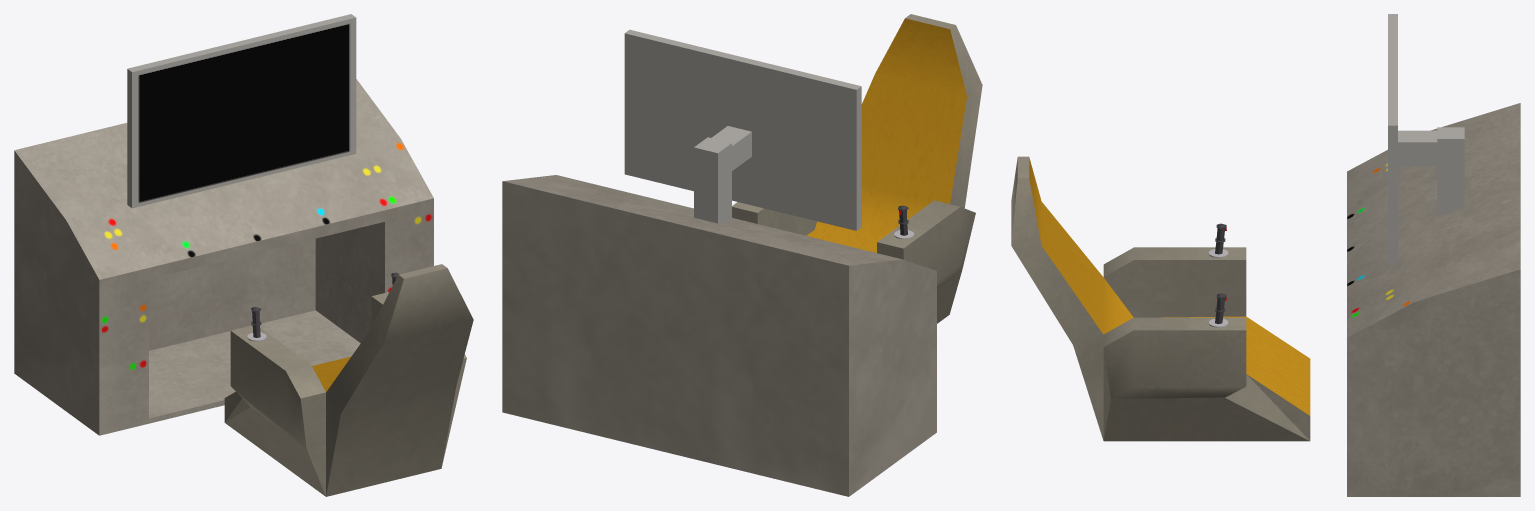
File: Control_Center.fbx
3 renders of one model, left to right at view 1: azimuth 30°, elevation 25°; view 2: azimuth 150°, elevation 25°; view 3: azimuth 270°, elevation 25°, orthographic. The views are drawn at different scales.
Parts seen in each view (by area): view 1: pCube5; view 2: pCube5; view 3: pCube5.
Boxes of the visible parts, x1,y1,x2,y2 form: pCube5: (14,14,473,496); pCube5: (502,14,982,496); pCube5: (1011,14,1520,496).
Size of the model in its own units: 39.67 by 38.07 by 51.29.
